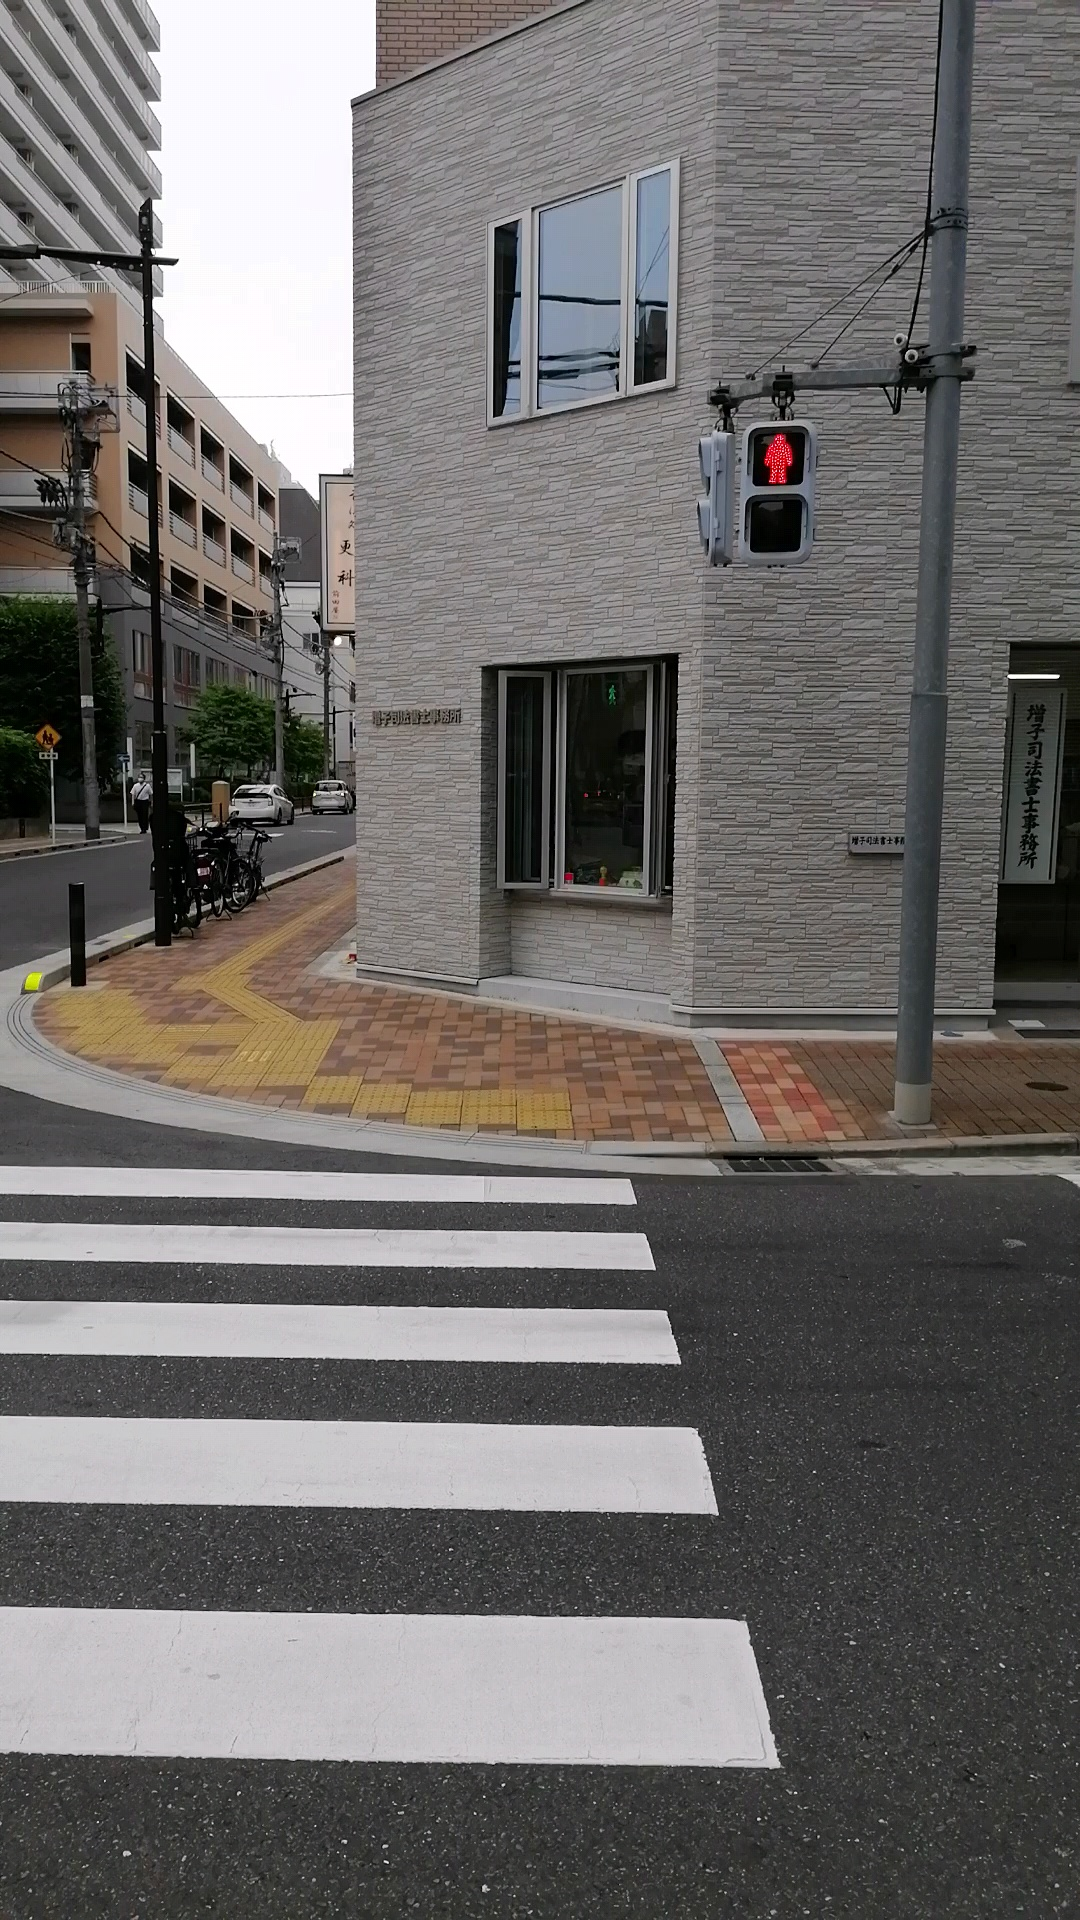red: (740, 419, 814, 564)
